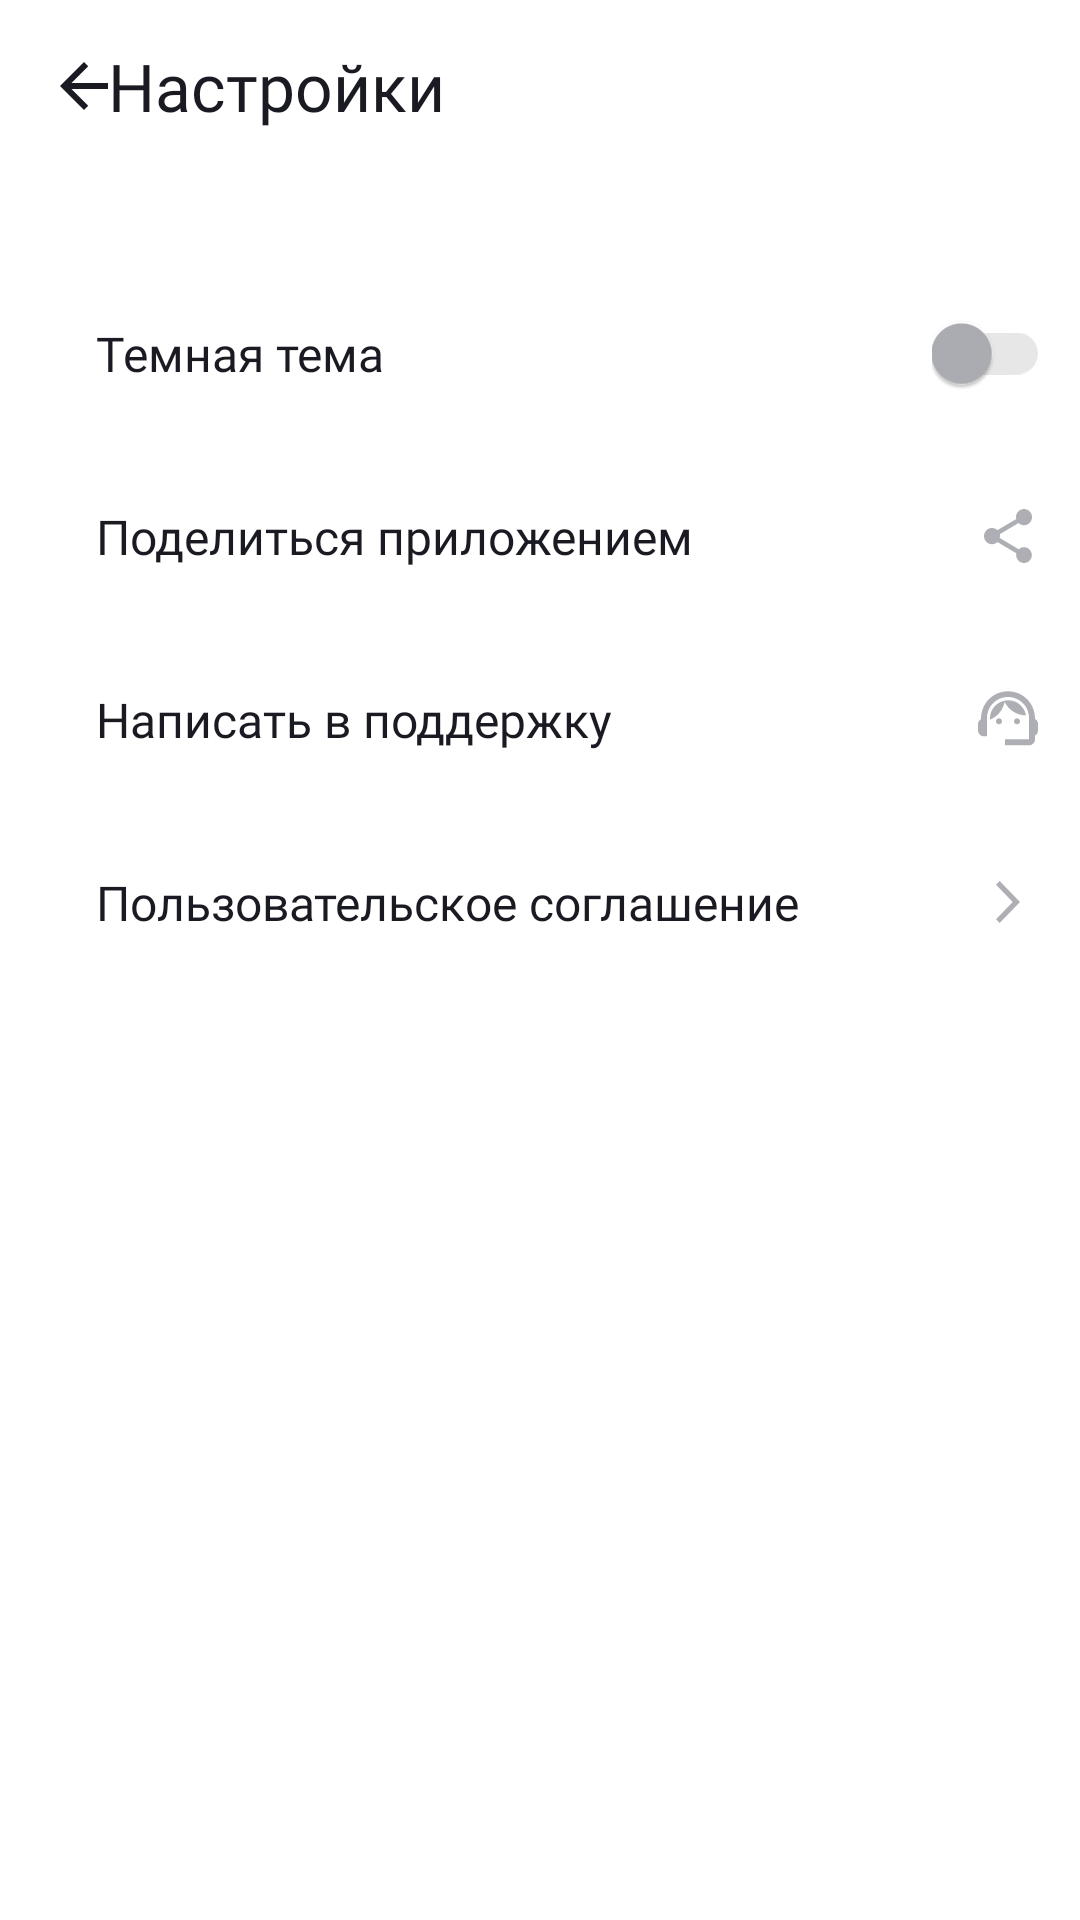

Named icons in this screenshot (1080*1920) and their centers, (x,y):
arrow back: (84,86)
Написать в поддержку: (1008,718)
Поделиться приложением: (1008,536)
